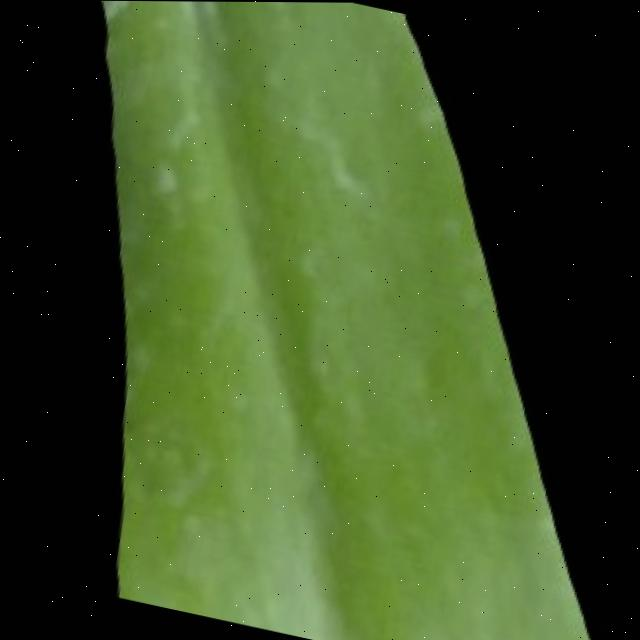mite: (140, 148, 193, 207)
sunburn: (13, 0, 224, 600)
